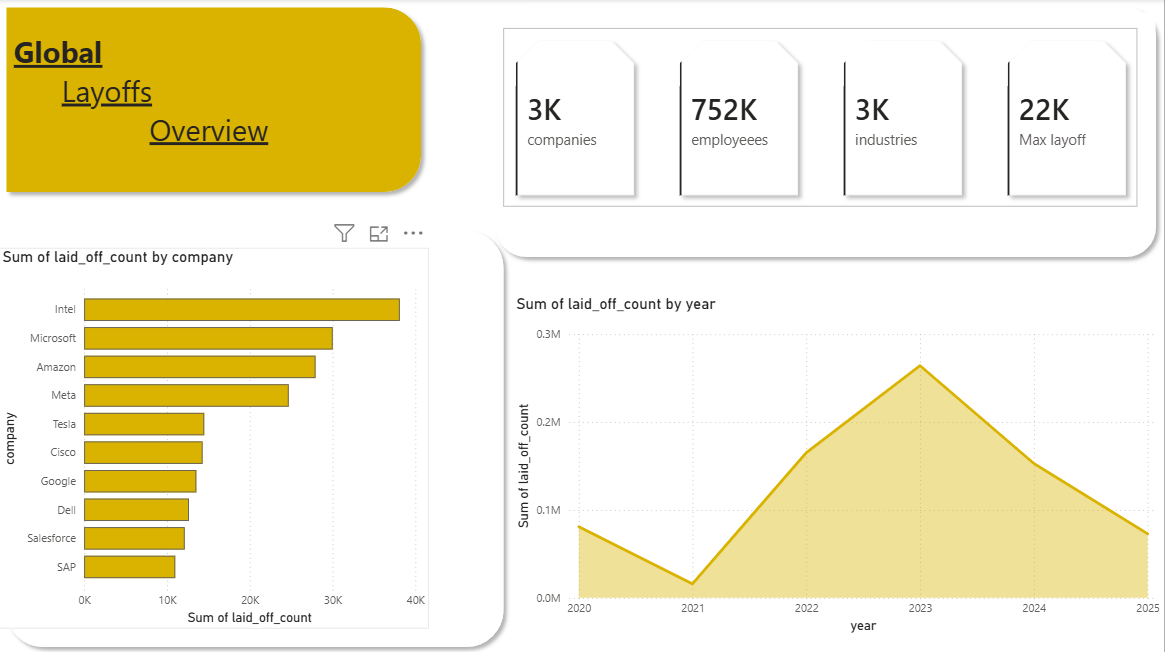

This screenshot's page, from the dashboard's own definition file:
{"tool":"powerbi","page":{"name":"Page 4","canvas":[1280,720],"ordinal":0},"visuals":[{"type":"shape","box":[0,0,473.4,220.9],"z":0},{"type":"textbox","box":[12.3,31.6,269,146.8],"z":1000},{"type":"shape","box":[0,245.6,564,474.8],"z":2000},{"type":"clusteredBarChart","fields":{"Category":["layoff_events.company"],"Y":["Sum(layoff_events.laid_off_count)"]},"box":[0,273.1,473.4,418.5],"z":3000},{"type":"lineChart","fields":{"Y":["Sum(layoff_events.laid_off_count)"],"Category":["layoff_events.year"]},"box":[564,323.8,716.3,377.4],"z":4000},{"type":"shape","box":[537.9,0,742.4,292.3],"z":5000},{"type":"cardVisual","fields":{"Data":["layoff_events.companies","layoff_events.employeees","layoff_events.industries","layoff_events.Max layoff"]},"box":[537.9,15.1,732.8,230.5],"z":6000}]}

Visuals, with their boxes in screenshot pixels (x1, y1, x2, y2), scaled from the page's 1280x720 canvas onto the 1165x652 screenshot:
shape: <bbox>0, 0, 431, 200</bbox>
textbox: <bbox>11, 29, 256, 162</bbox>
shape: <bbox>0, 222, 513, 651</bbox>
clusteredBarChart - layoff_events.company x Sum(layoff_events.laid_off_count): <bbox>0, 247, 431, 626</bbox>
lineChart - Sum(layoff_events.laid_off_count) x layoff_events.year: <bbox>513, 293, 1164, 635</bbox>
shape: <bbox>490, 0, 1164, 265</bbox>
cardVisual - layoff_events.companies x layoff_events.employeees: <bbox>490, 14, 1157, 222</bbox>
